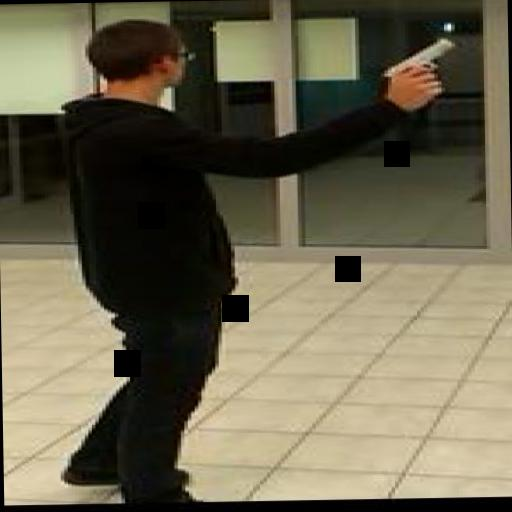Handgun: (376, 36, 460, 96)
